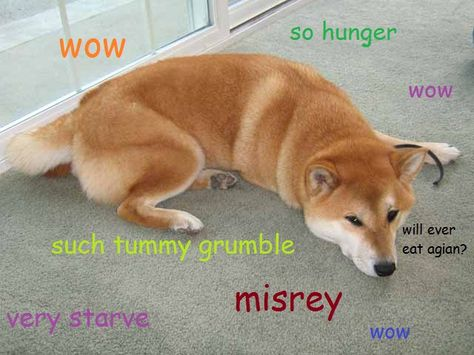doge: (293, 135, 429, 287)
